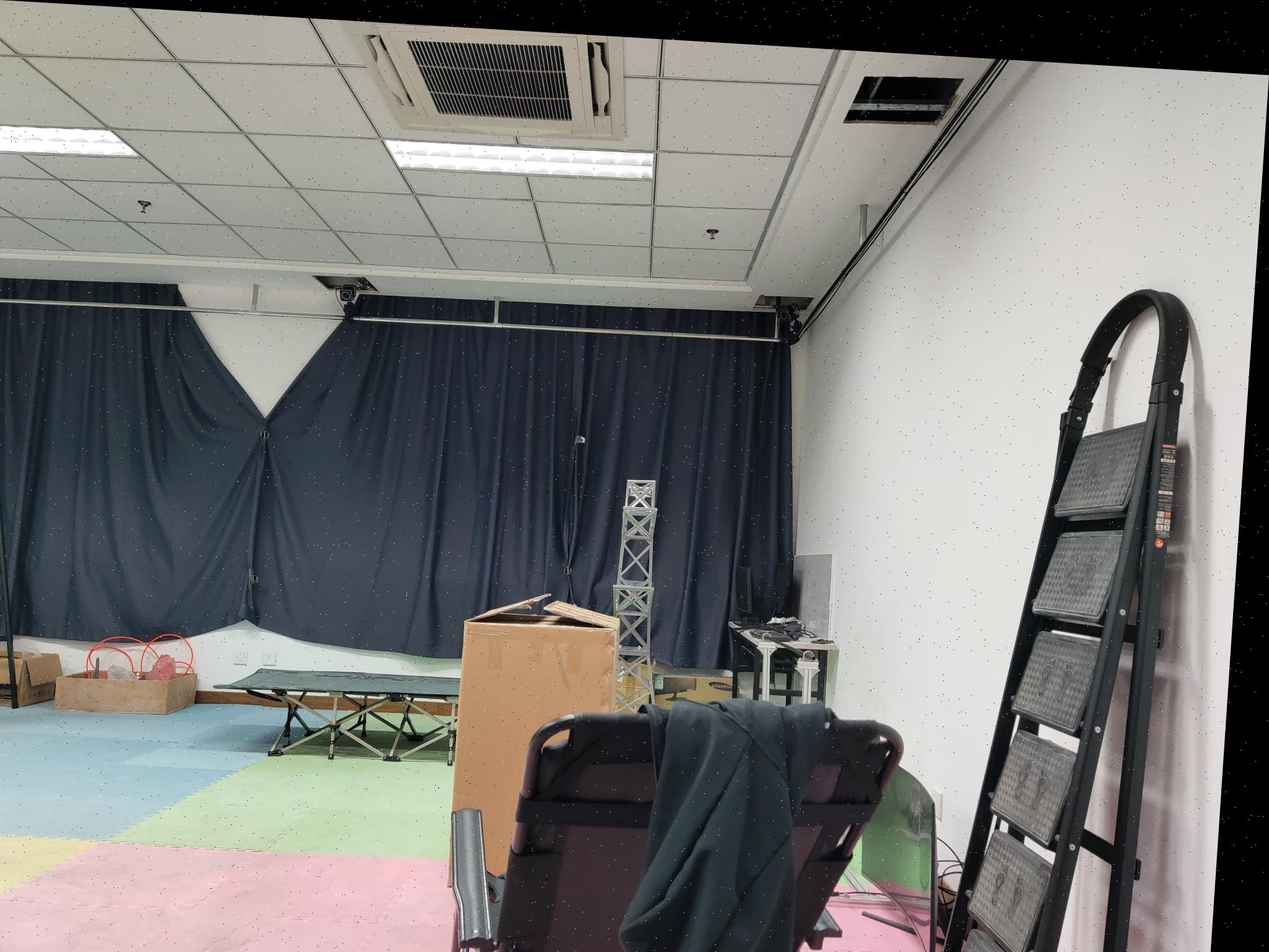tower: (602, 474, 674, 719)
